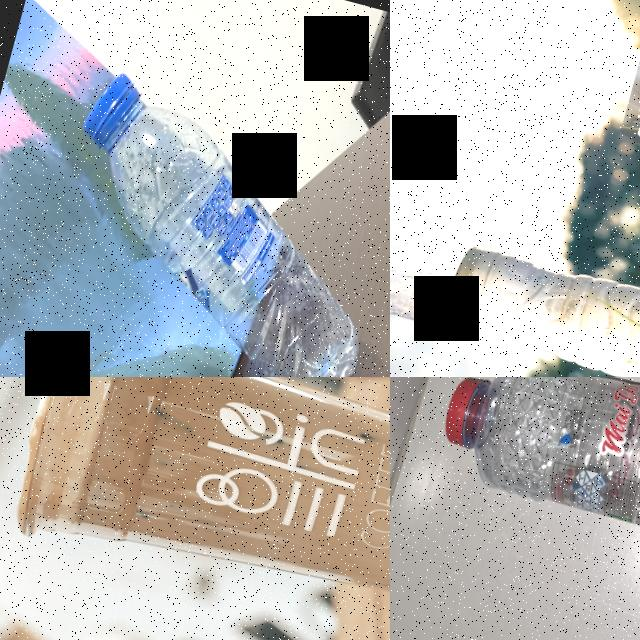bottle: (19, 53, 390, 377), (390, 189, 640, 377), (432, 377, 640, 570)
cup: (4, 377, 390, 640)
